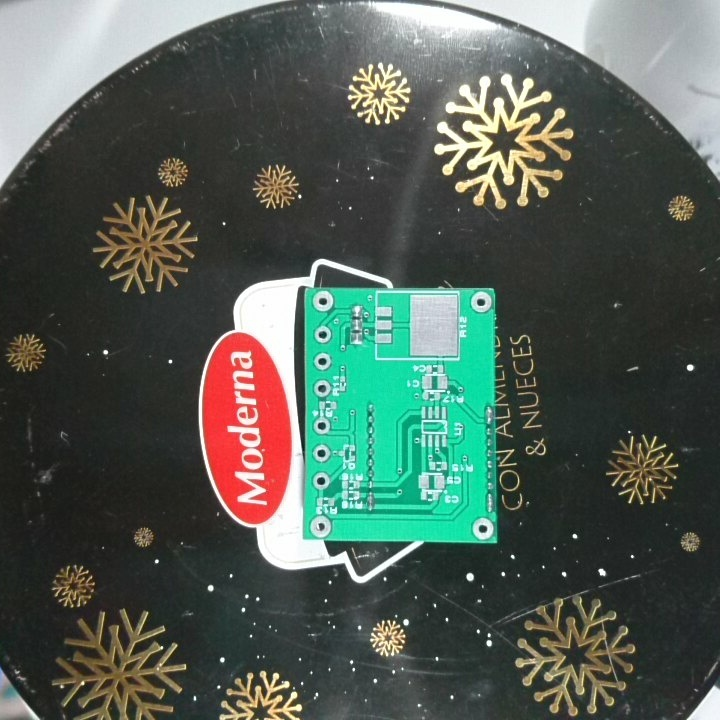F: (469, 515, 494, 542), (308, 513, 333, 539), (469, 291, 493, 315), (311, 289, 336, 312), (311, 377, 333, 400), (311, 414, 333, 437), (308, 469, 332, 490), (312, 323, 334, 345), (312, 350, 333, 372), (311, 443, 332, 463)
P: (362, 489, 377, 514), (482, 402, 496, 426), (483, 489, 495, 515)
